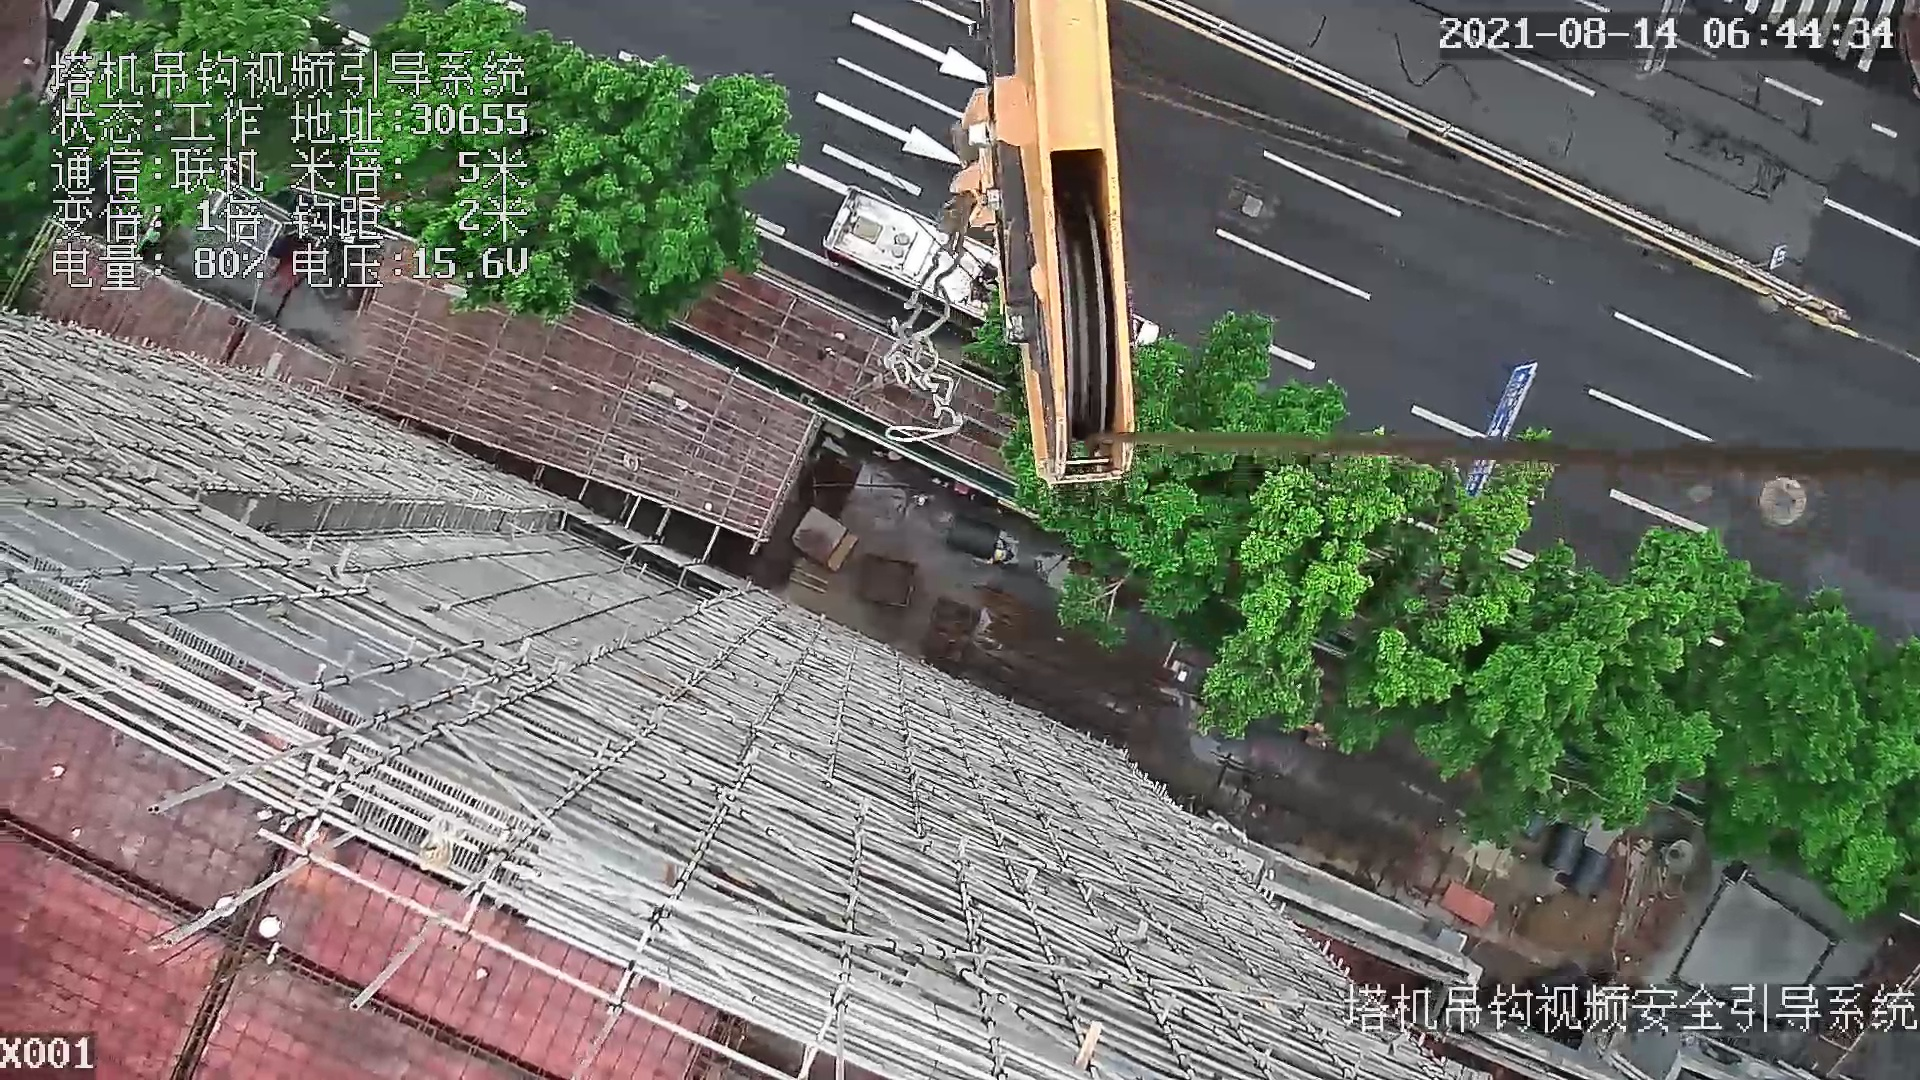hook: (922, 4, 1145, 491)
